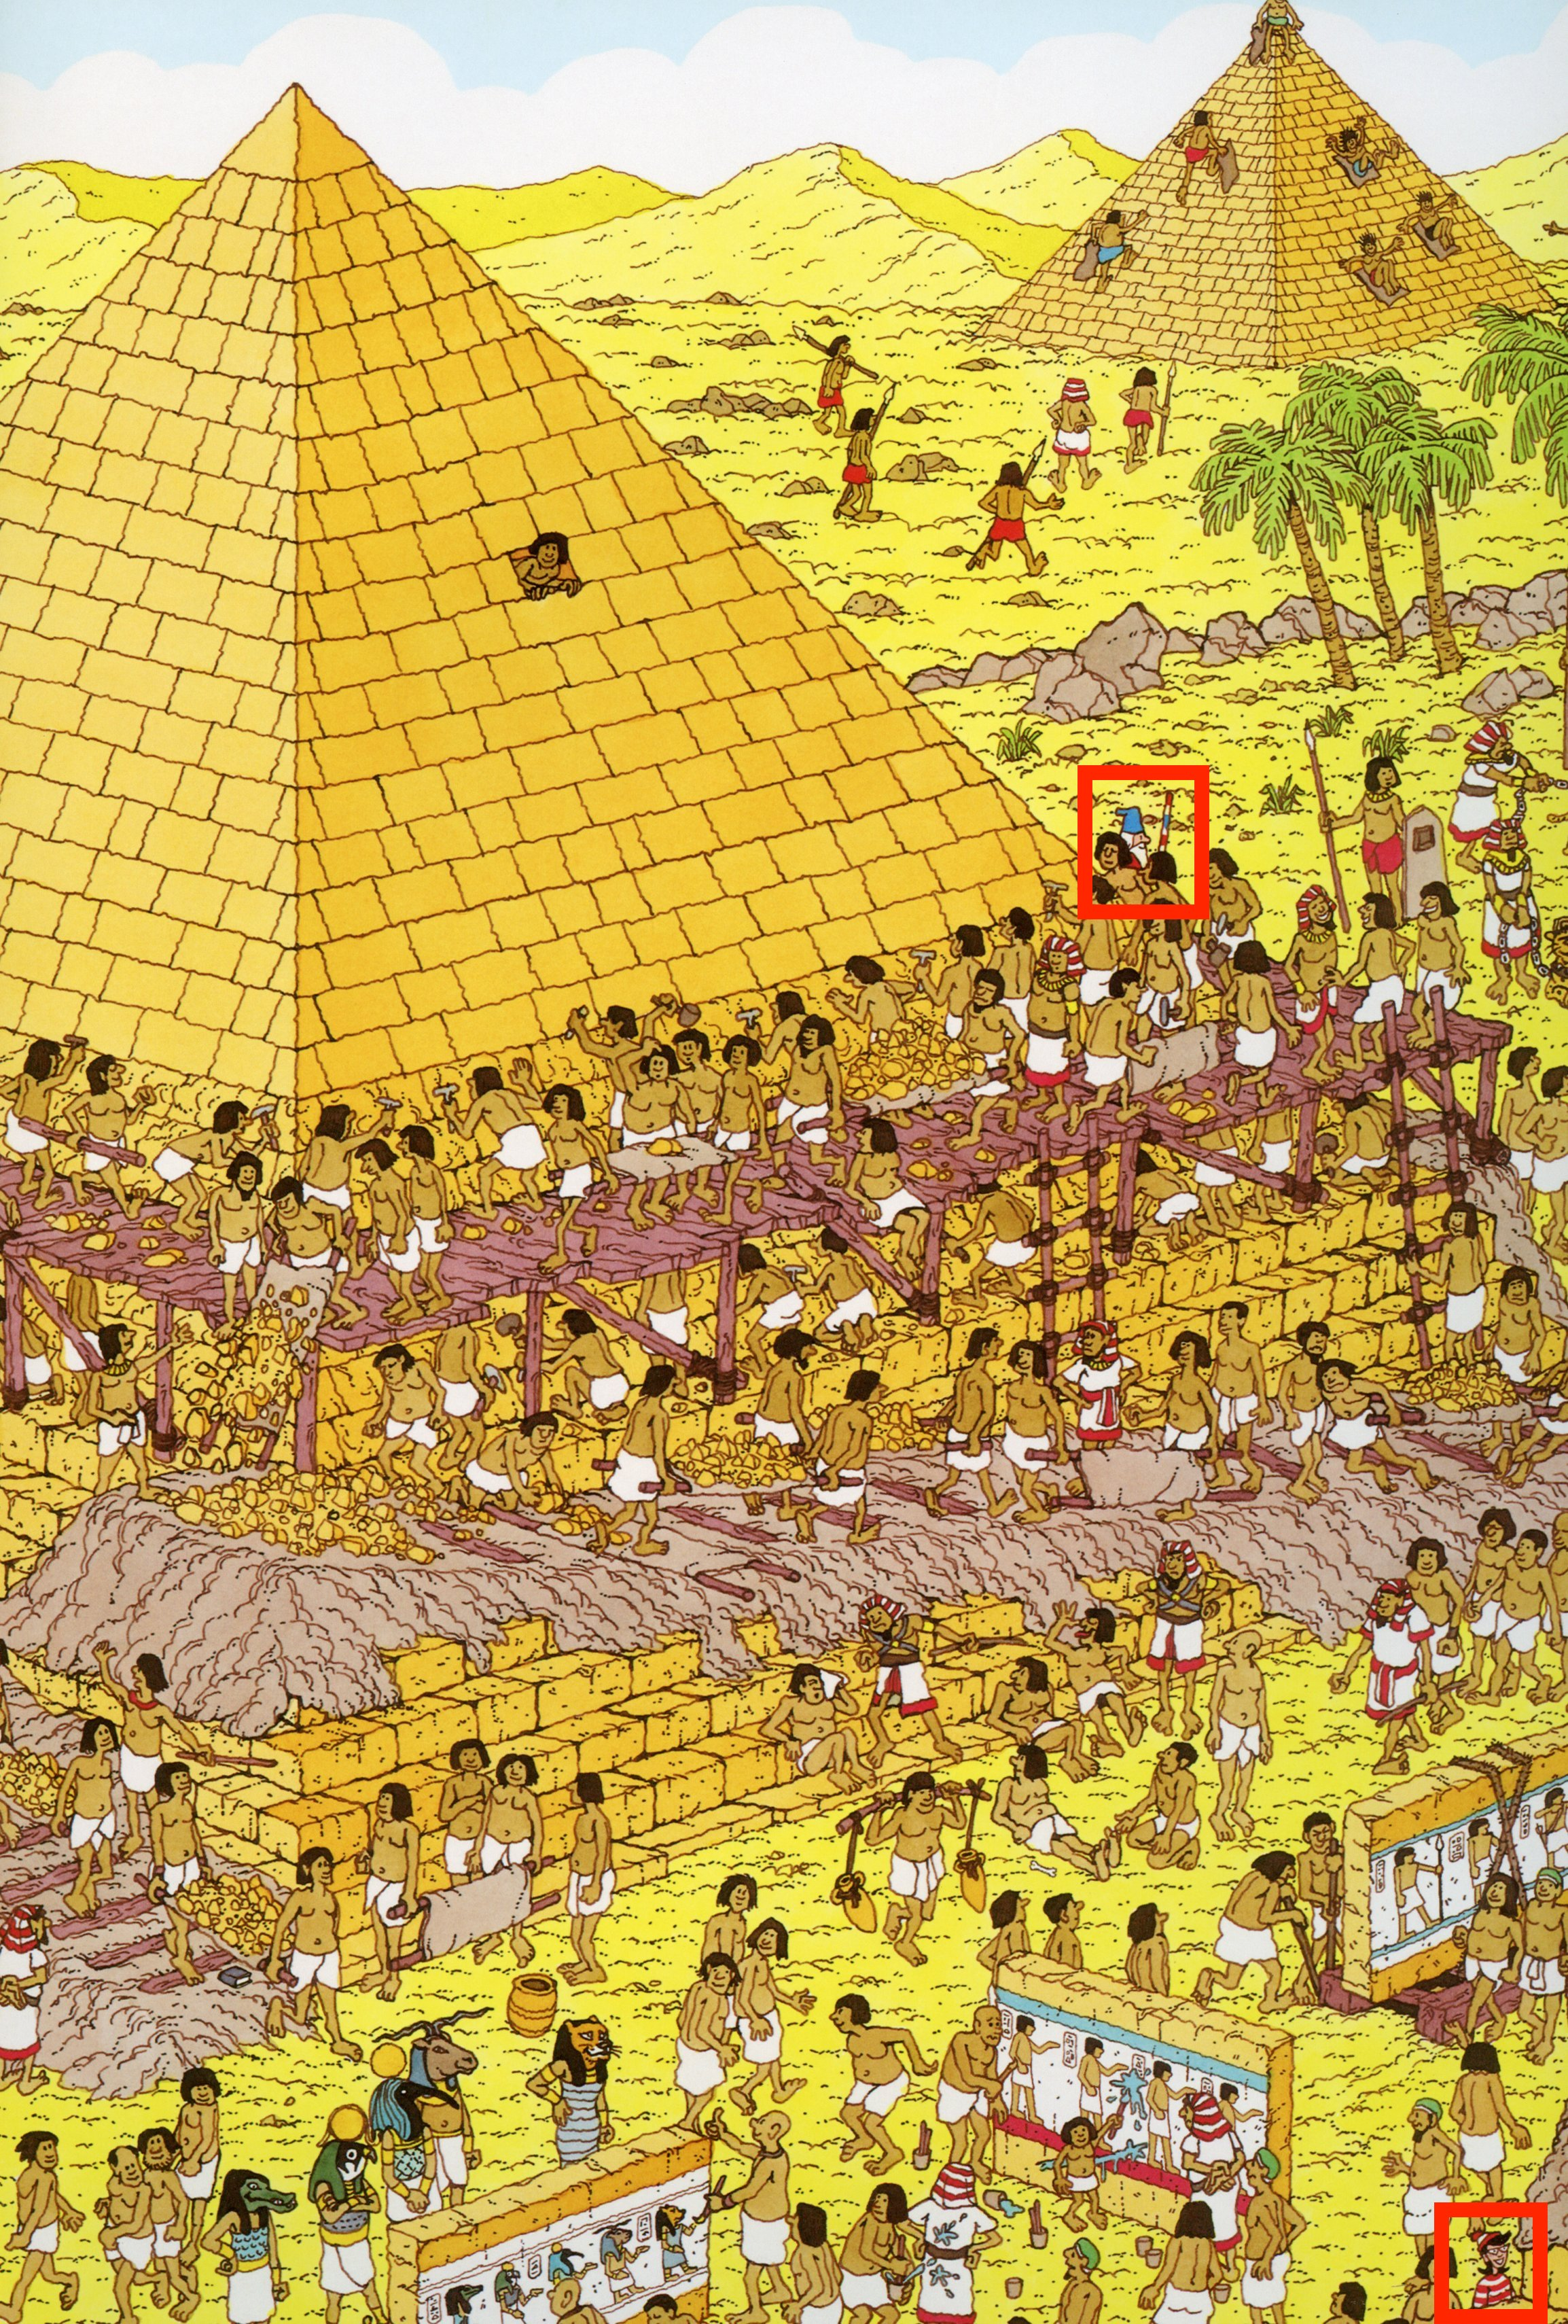wenda: (1447, 2207, 1545, 2324)
white beard: (1078, 770, 1213, 915)
